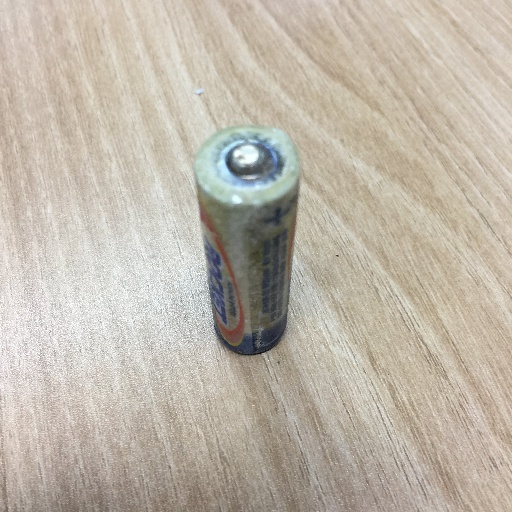Battery_0: (182, 111, 313, 375)
